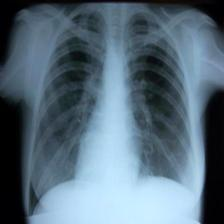tuberculosis: (23, 5, 202, 224)
